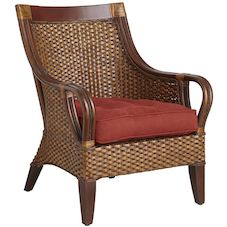chair: (5, 1, 211, 225)
